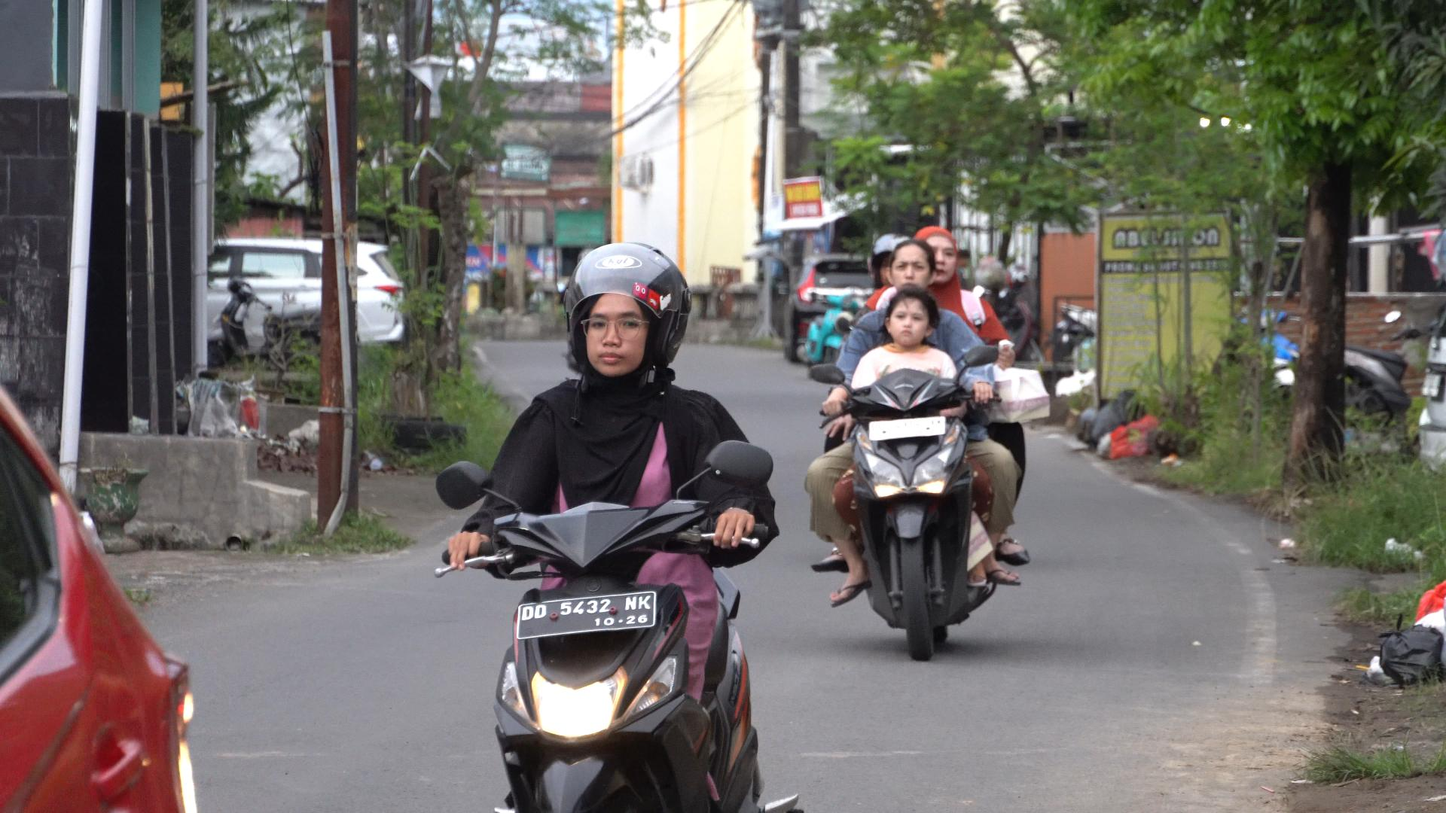number-plate: (517, 598, 659, 636)
